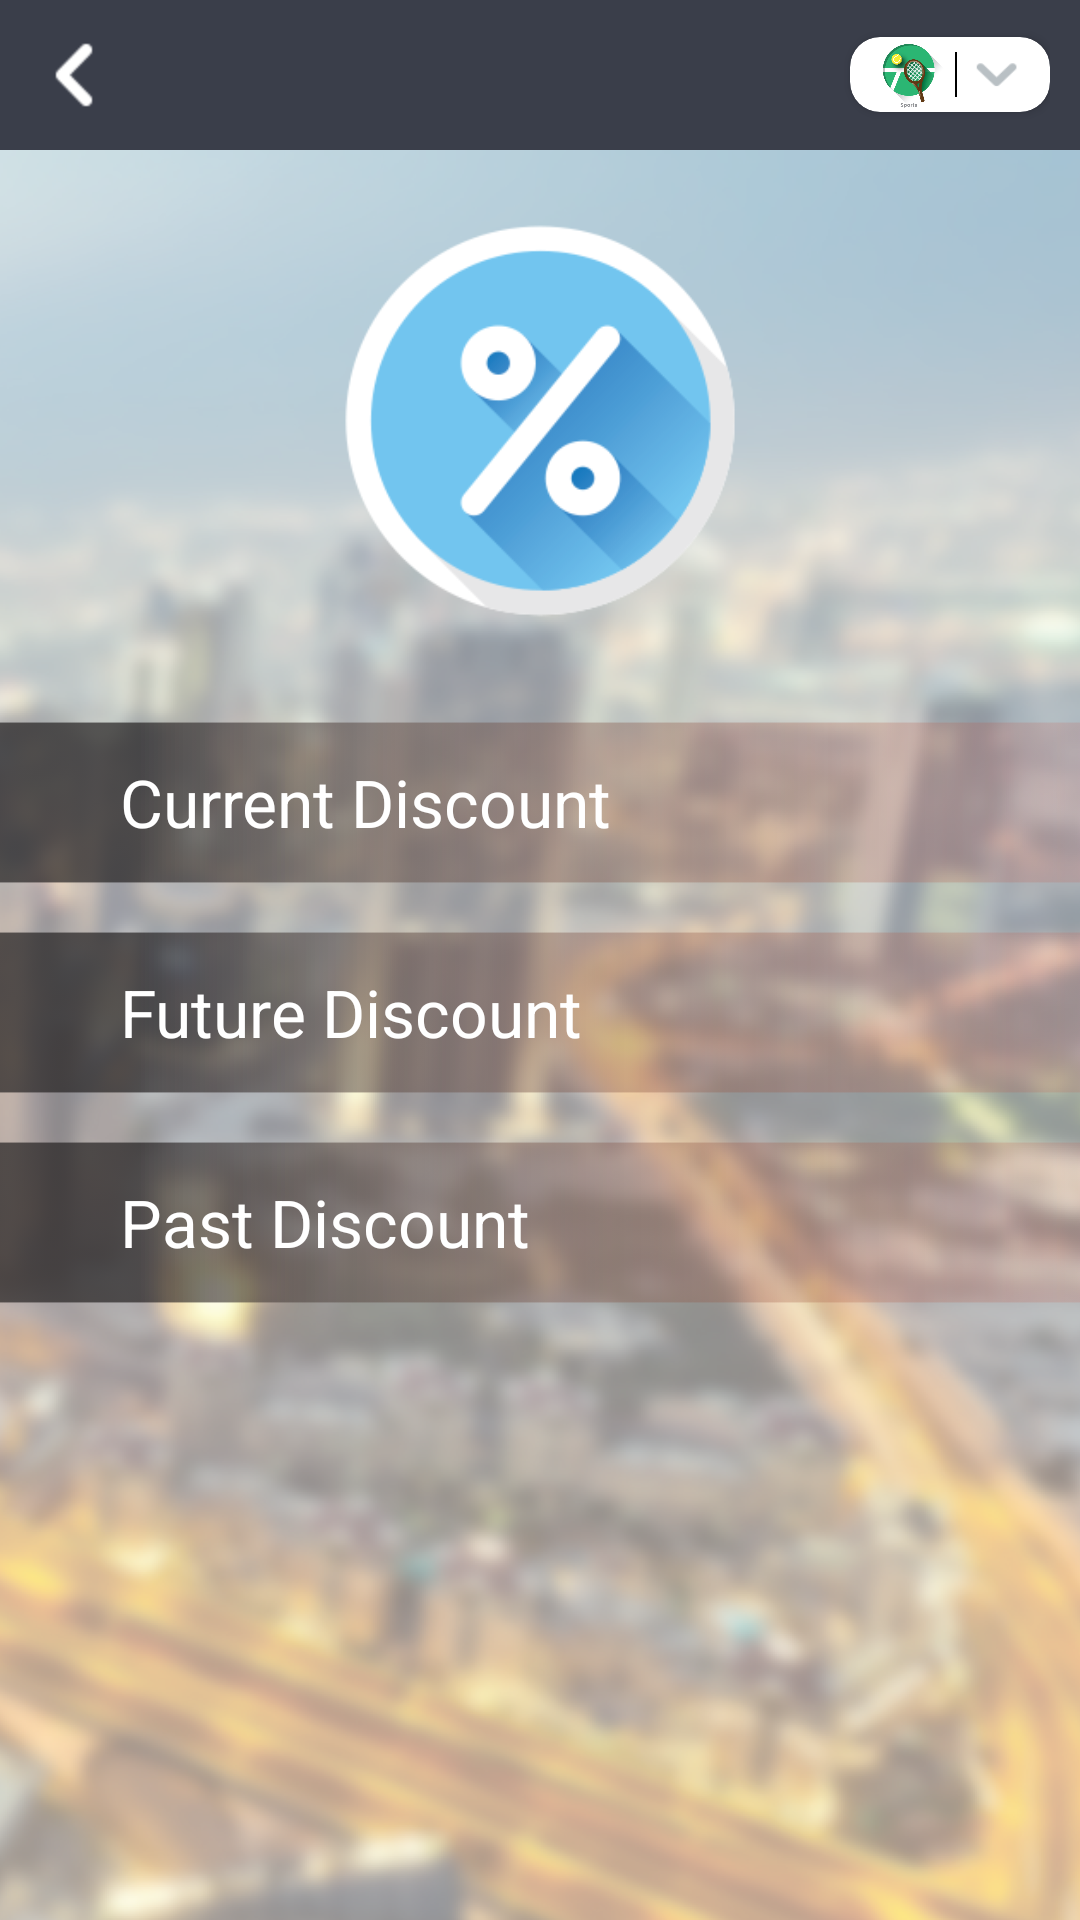

Icons on this 1080px×1920px Android screen, each with its box as (x1, y1, x2, y2):
back: (55, 43, 93, 107)
dropdown: (977, 63, 1017, 86)
